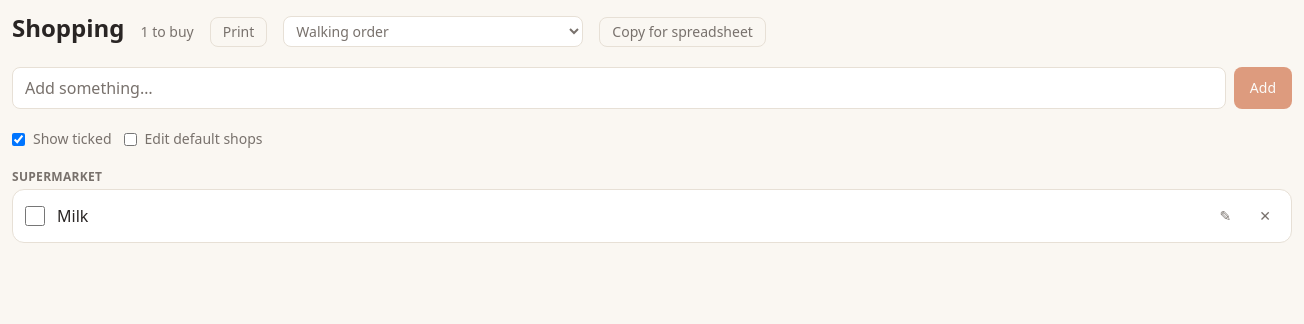
ShoppingListPage reconnecting › retries a stuck offline queue on its own, without a real online event
Check: the text "Milk" is shown, box [57,205,88,227]
Click the checkbox named "Tick off Milk": point(35, 216) [25,206,45,226]
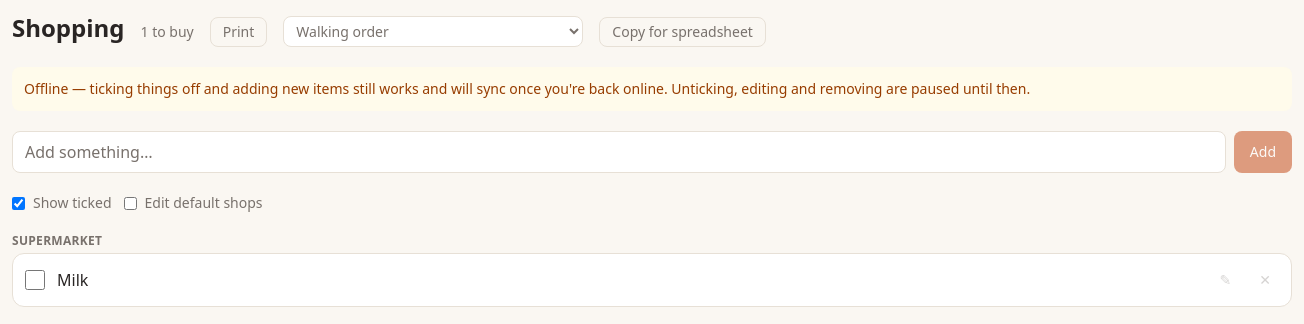
Check: the text "Offline" is shown, box [24,79,1030,98]
Click the checkbox named "Tick off Milk": point(35, 280) [25,270,45,290]
Wait 20000 ms
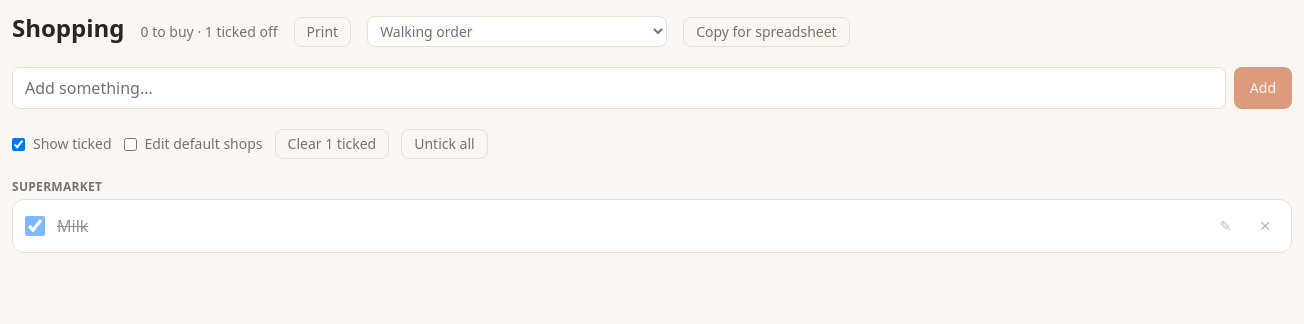
Check: the text "Offline" is gone
